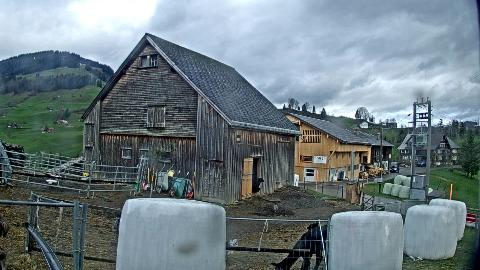car: (390, 165, 400, 173), (418, 161, 426, 167)
sheep: (272, 226, 326, 270), (307, 222, 329, 240), (252, 178, 264, 193)
